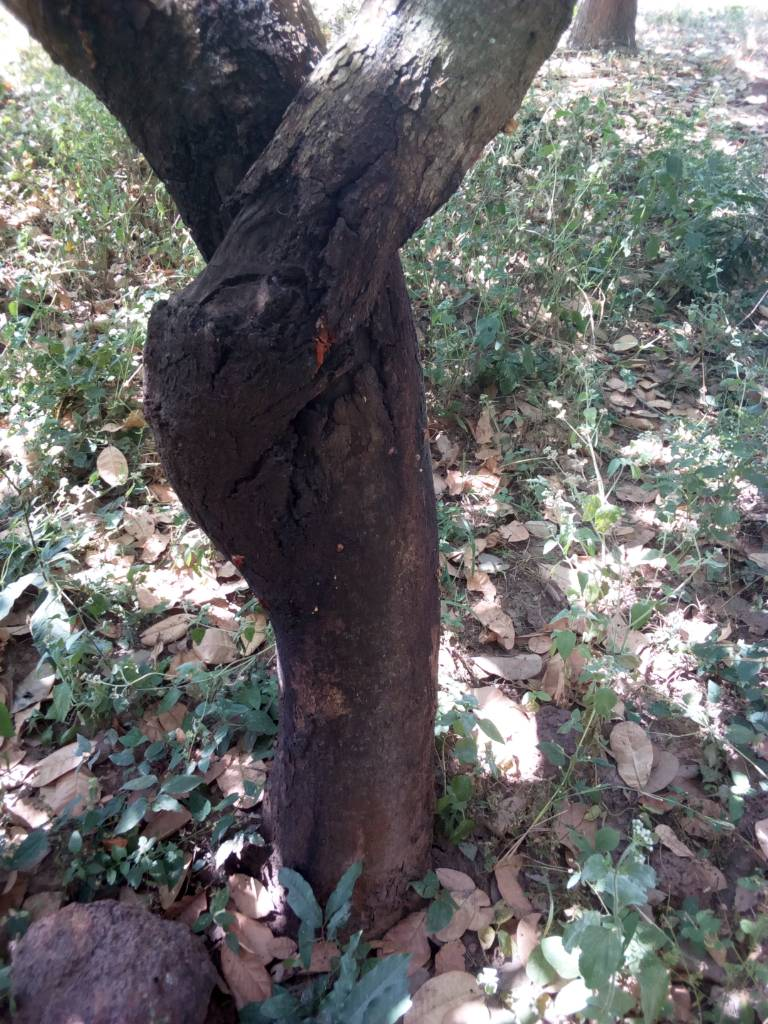Gommose: (144, 152, 386, 567), (79, 8, 344, 185)
